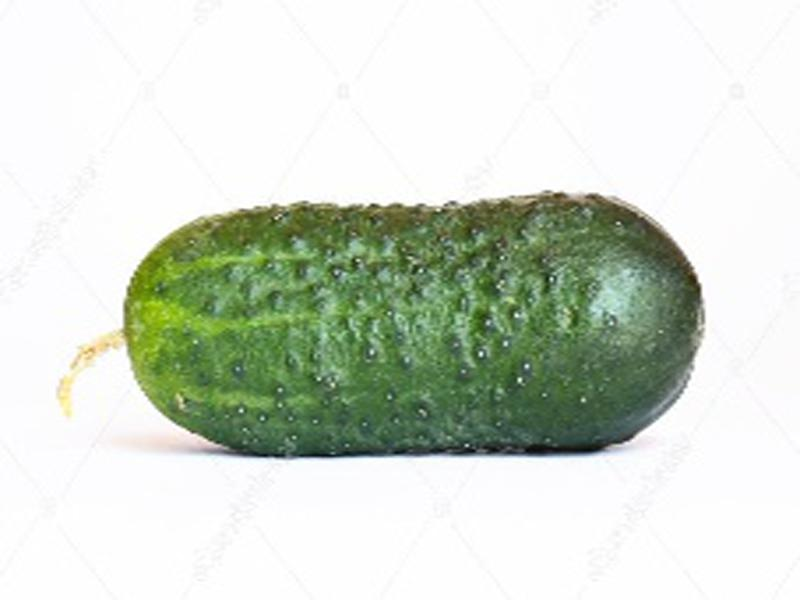Cucumber: (53, 196, 698, 452)
